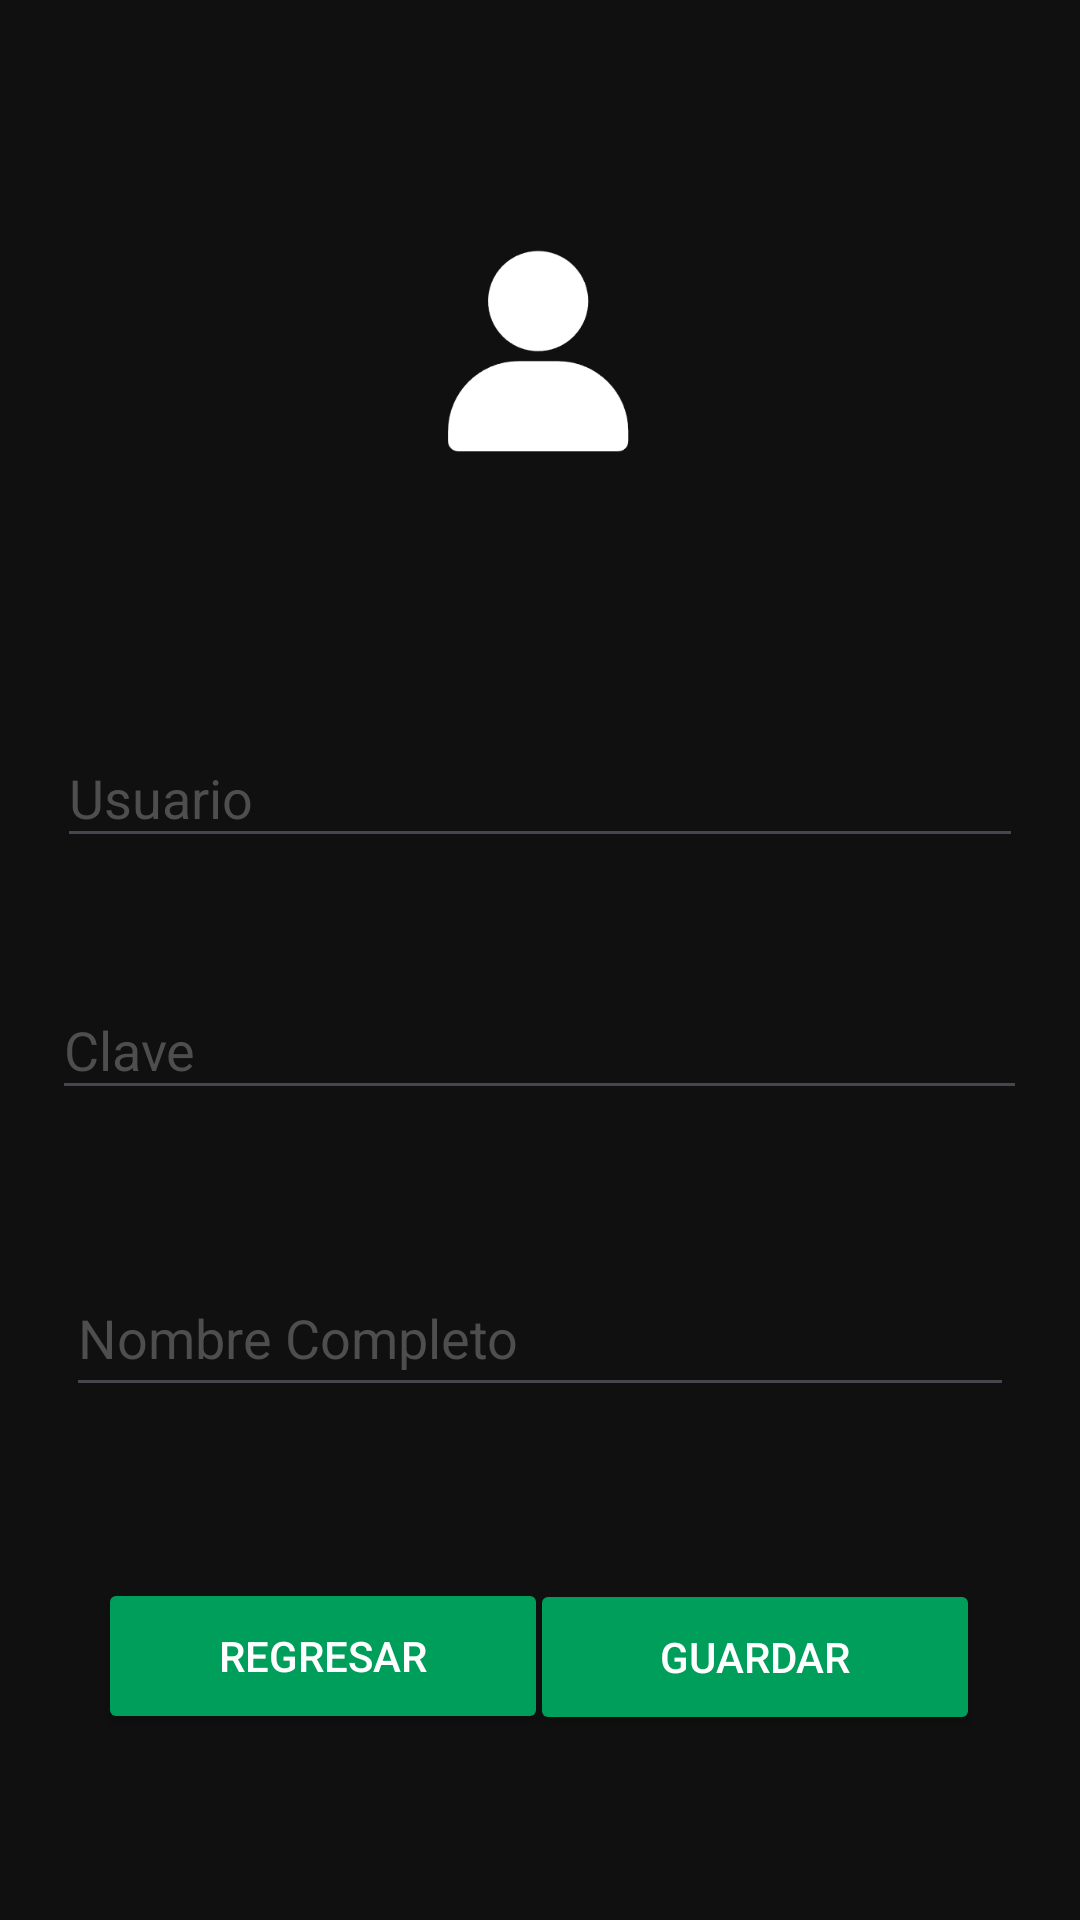

Named icons in this screenshot (1080×1920) and their bounding boxes, (x1, y1, x2, y2):
user: (448, 250, 629, 452)
